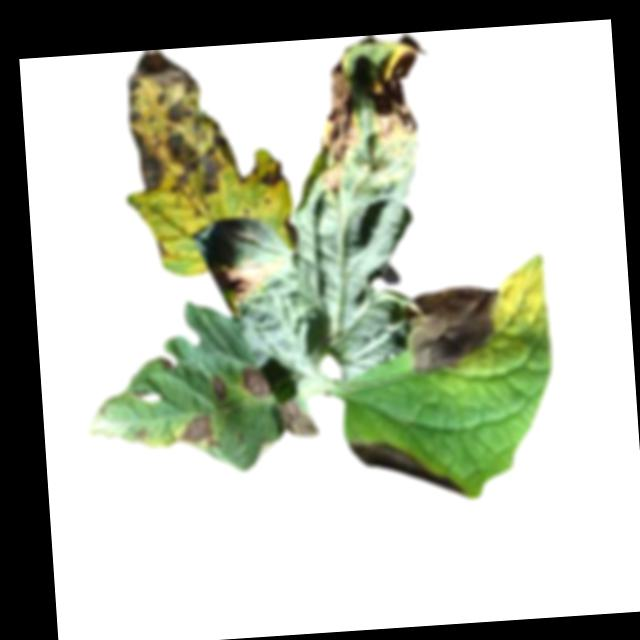Early_blight: (123, 44, 249, 204), (406, 284, 508, 373), (347, 436, 466, 503), (367, 33, 428, 154), (316, 60, 367, 195), (222, 261, 281, 307), (278, 397, 318, 444), (177, 413, 222, 453), (240, 367, 270, 399), (258, 158, 288, 187), (284, 213, 299, 247), (212, 373, 228, 401), (131, 390, 151, 403), (133, 428, 150, 443)
